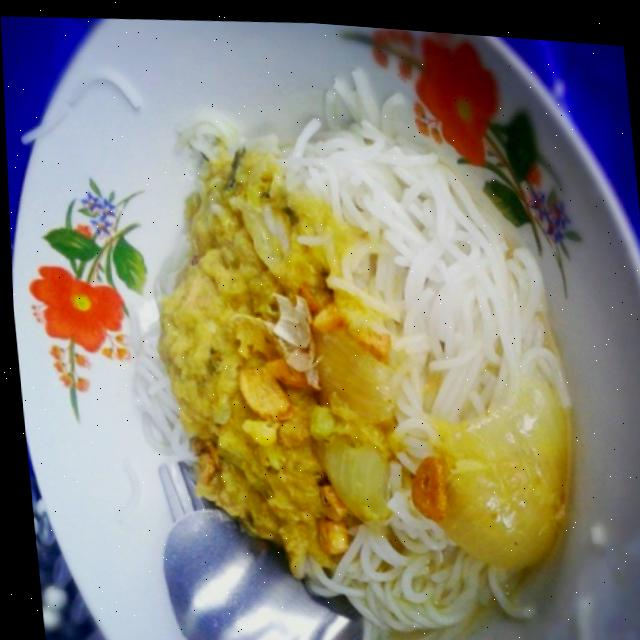面条主食: (0, 14, 640, 640)
